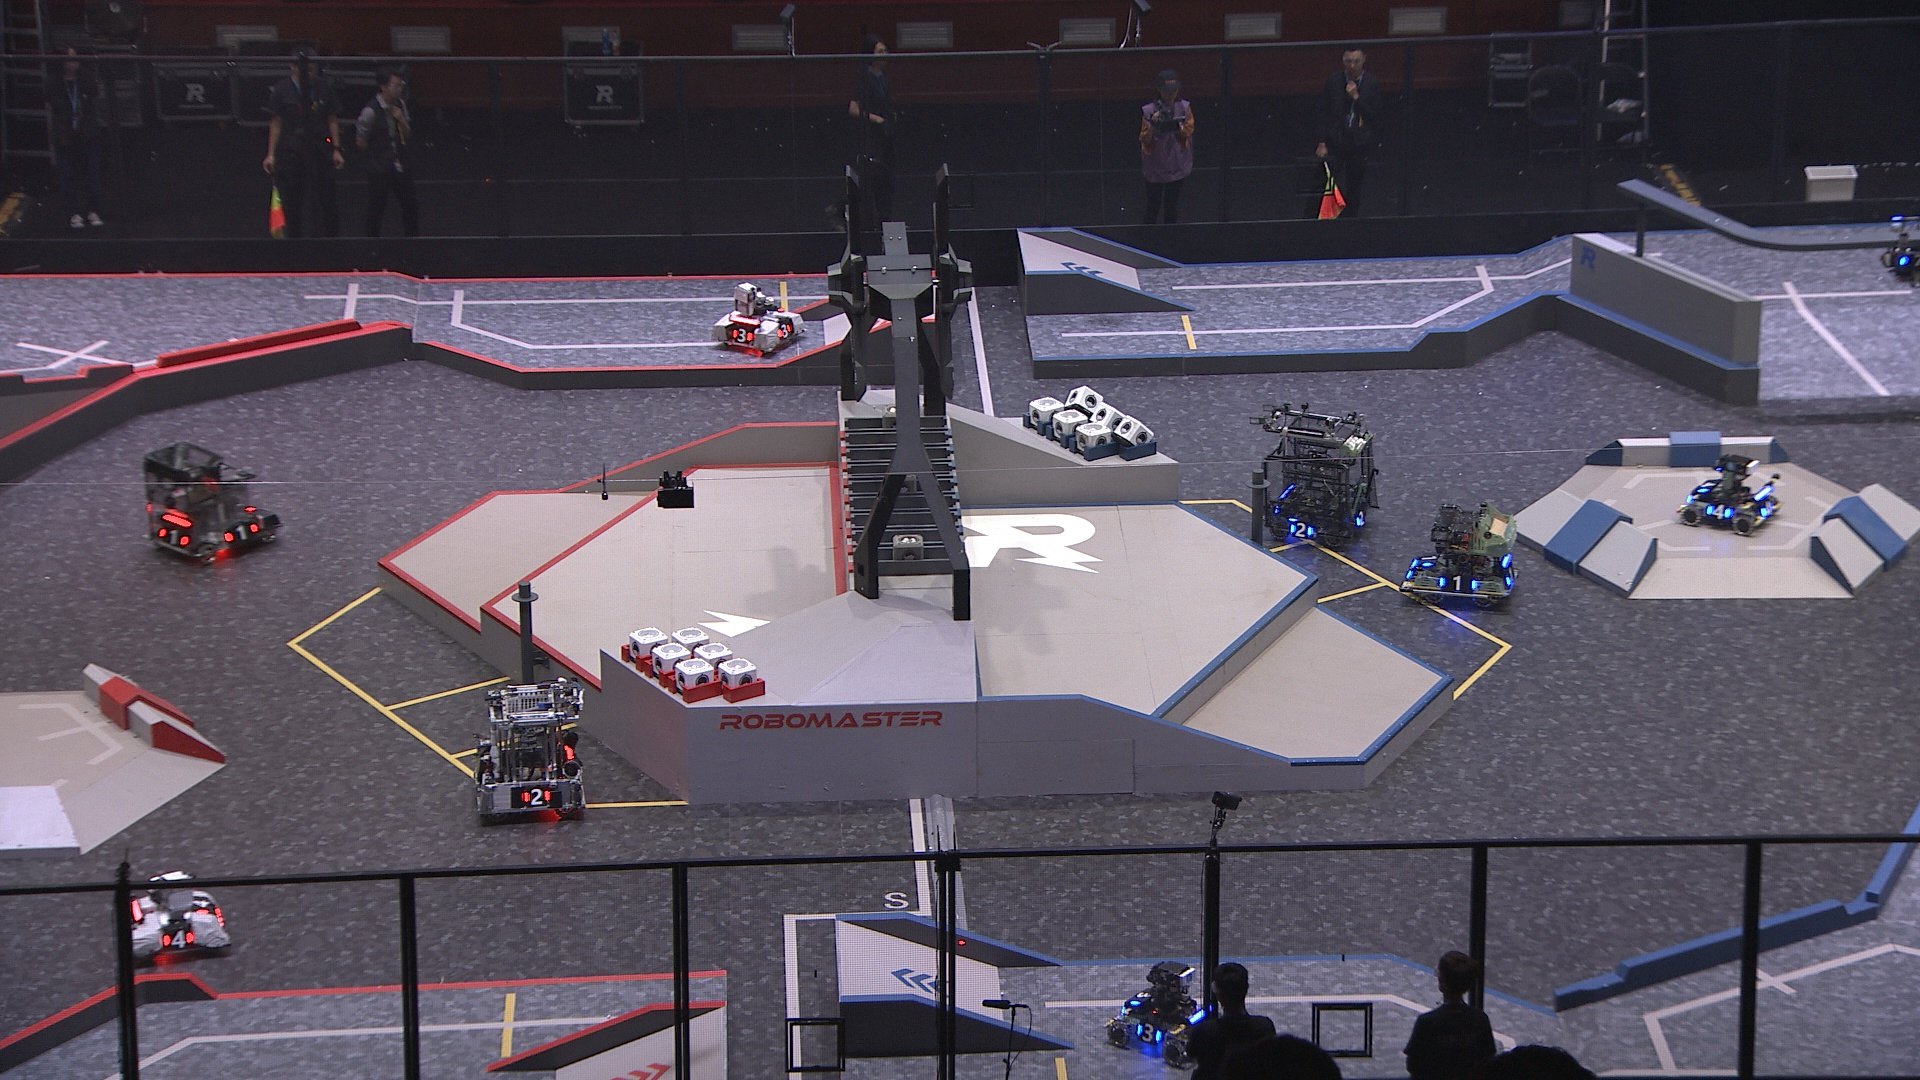armor: (223, 524, 261, 546), (1437, 574, 1480, 593), (156, 527, 193, 550), (522, 785, 553, 808), (1135, 1022, 1166, 1046), (162, 930, 196, 949), (1705, 502, 1735, 522), (1129, 986, 1155, 1007), (1288, 522, 1316, 541), (193, 894, 215, 915), (1695, 479, 1721, 496), (731, 328, 756, 344), (1898, 253, 1920, 270), (1759, 498, 1776, 520), (1418, 553, 1439, 570), (1353, 508, 1370, 529), (1505, 564, 1520, 585), (775, 323, 793, 342)
car: (142, 440, 287, 566), (1261, 404, 1381, 551), (471, 679, 589, 822), (1400, 502, 1522, 605), (1102, 957, 1218, 1064), (125, 869, 231, 963), (1673, 454, 1784, 534), (712, 282, 808, 356)
watcher: (1878, 215, 1920, 291)
